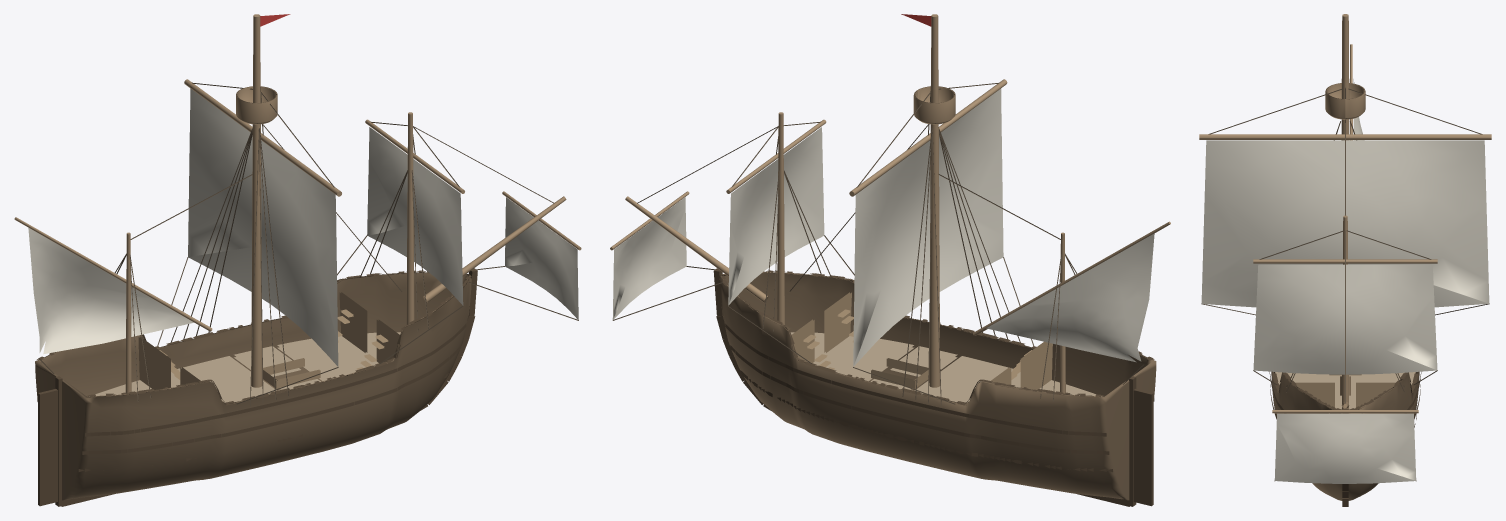
The model's file is matthew.glb.
The picture shows the model from 3 angles, left to right: view 1: azimuth 30°, elevation 25°; view 2: azimuth 150°, elevation 25°; view 3: azimuth 270°, elevation 25°; orthographic projection. The views are drawn at different scales.
Parts seen in each view (by area): view 1: canvas, hull, trim, rope, deck, fittings, Mainmast, Rudder, Foremast, Main top (crow's nest), Main yard, Bowsprit (+2 smaller); view 2: canvas, hull, trim, rope, deck, fittings, Mainmast, Rudder, Foremast, Main top (crow's nest), Main yard, Bowsprit (+1 smaller); view 3: canvas, hull, Main yard, rope, deck, fittings, Main top (crow's nest), trim, Fore yard, Mainmast, Spritsail yard, Foremast.
Boxes of the visible parts, x1,y1,x2,y2 form: canvas: (28,88,578,366); hull: (35,272,471,500); trim: (37,268,477,506); rope: (38,82,578,406); deck: (89,332,400,402); fittings: (138,292,399,401); Mainmast: (251,14,262,387); Rudder: (38,389,57,506); Foremast: (406,112,414,324); Main top (crow's nest): (236,86,277,124); Main yard: (184,79,341,196); Bowsprit: (423,196,566,302); canvas: (612,88,1154,366); hull: (719,272,1156,500); trim: (713,268,1154,506); rope: (613,82,1143,406); deck: (790,332,1101,402); fittings: (791,292,1052,389); Mainmast: (929,14,940,387); Rudder: (1133,389,1153,506); Foremast: (777,112,784,324); Main top (crow's nest): (913,86,955,124); Main yard: (849,79,1007,196); Bowsprit: (625,196,768,302); canvas: (1201,79,1489,483); hull: (1271,371,1419,500); Main yard: (1199,134,1491,139); rope: (1201,87,1489,481); deck: (1275,372,1415,409); fittings: (1295,374,1395,407); Main top (crow's nest): (1325,83,1365,119); trim: (1269,372,1421,506); Fore yard: (1253,259,1437,263); Mainmast: (1340,14,1350,395); Spritsail yard: (1272,410,1418,413); Foremast: (1341,215,1349,409).
Size of the model in its own units: 25.67 by 19.79 by 12.4.
